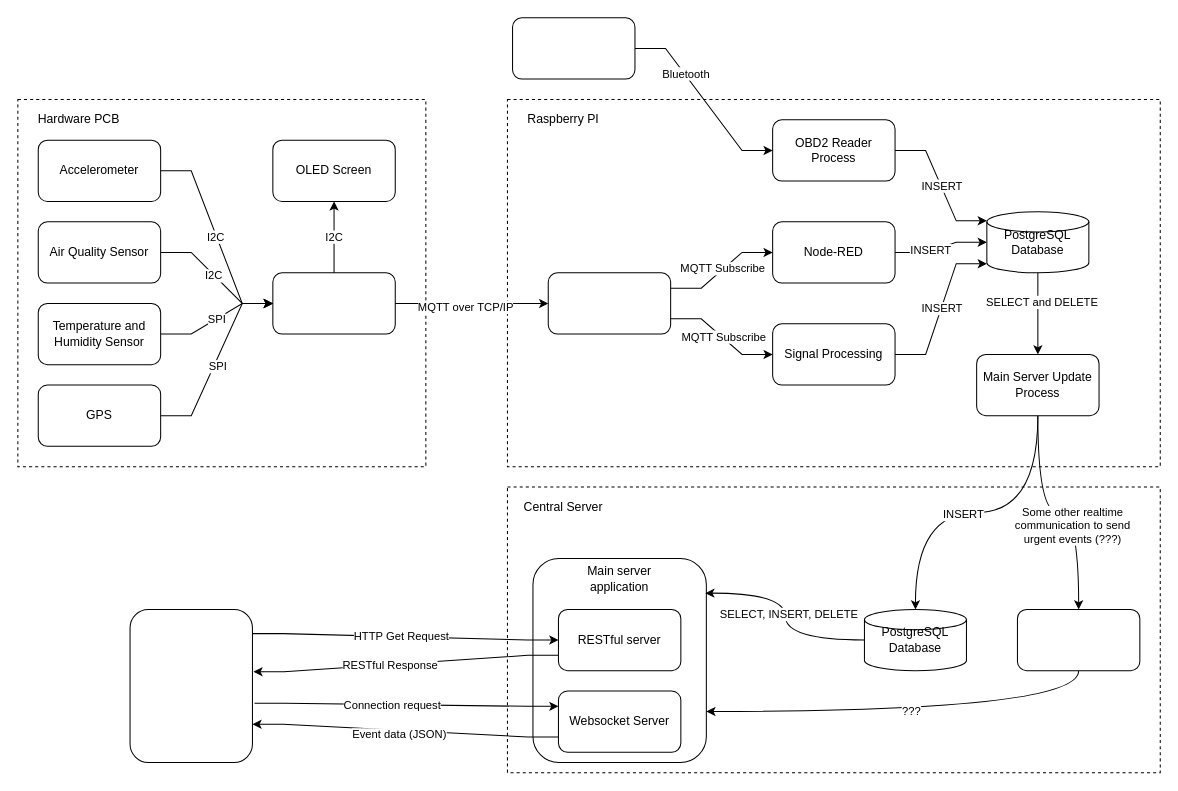
Some shapes in this 1178 by 791 pixel diagram are drawn without their labels. The centre of each missing label's shape, as x and y in pixels:
"Angular App" goes at [190,685].
"ESP32" goes at [333,303].
"MQTT Broker (Mosquitto)" goes at [609,303].
"OBD2 Dongle" goes at [573,48].
"Something to pass on realtime events (maybe not needed)" goes at [1078,639].
